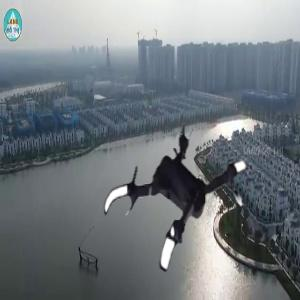drone: (100, 109, 268, 277)
